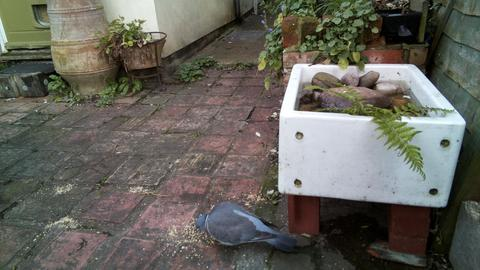wood pigeon: (195, 201, 298, 253)
